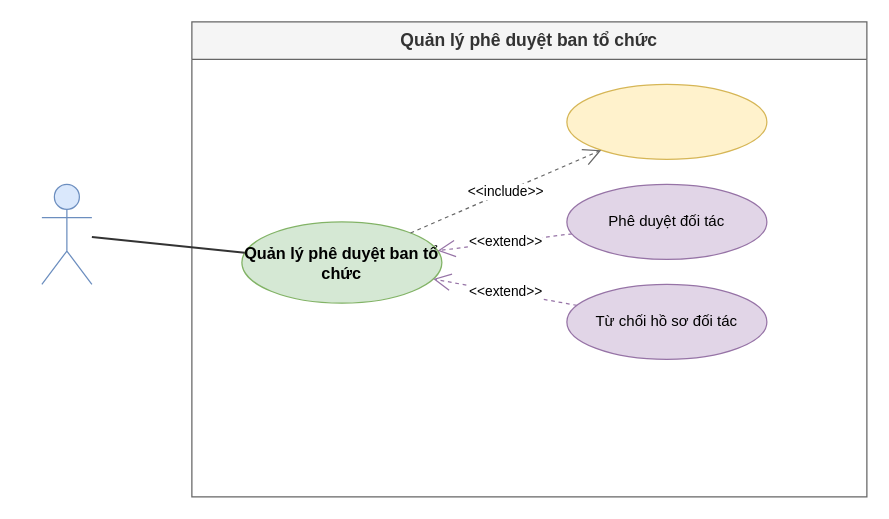
Some shapes in this 889 by 519 pixel diagram are drawn without their labels. The shapes that lost their labels are listed below. From the top down, each one's centre as x and y in pixels, then its label:
pixel 666 121: Xem danh sách hồ sơ chờ duyệt
pixel 66 233: Quản trị viên
